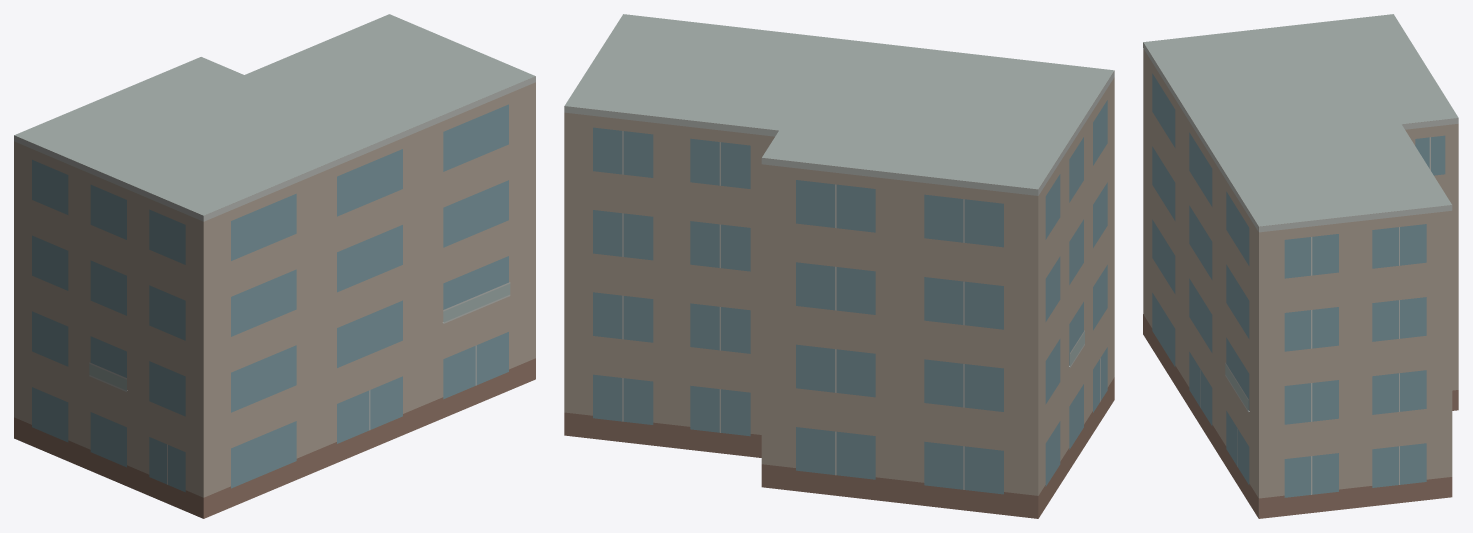
File: residential-f8cbceed-cf1c-4d2b-889a-c7e8ab477d10.glb
3 views of the same model, side by side, from view 1: azimuth 30°, elevation 25°; view 2: azimuth 150°, elevation 25°; view 3: azimuth 270°, elevation 25° (orthographic). The views are drawn at different scales.
Visible parts, largest first — view 1: residential-f8cbceed-cf1c-4d2b-889a-c7e8ab477d10.tmp; view 2: residential-f8cbceed-cf1c-4d2b-889a-c7e8ab477d10.tmp; view 3: residential-f8cbceed-cf1c-4d2b-889a-c7e8ab477d10.tmp.
Boxes of the visible parts, x1,y1,x2,y2 form: residential-f8cbceed-cf1c-4d2b-889a-c7e8ab477d10.tmp: [14, 14, 535, 518]; residential-f8cbceed-cf1c-4d2b-889a-c7e8ab477d10.tmp: [564, 14, 1114, 518]; residential-f8cbceed-cf1c-4d2b-889a-c7e8ab477d10.tmp: [1143, 14, 1458, 518].
Size of the model in its own units: 19.04 by 12.2 by 11.95.
